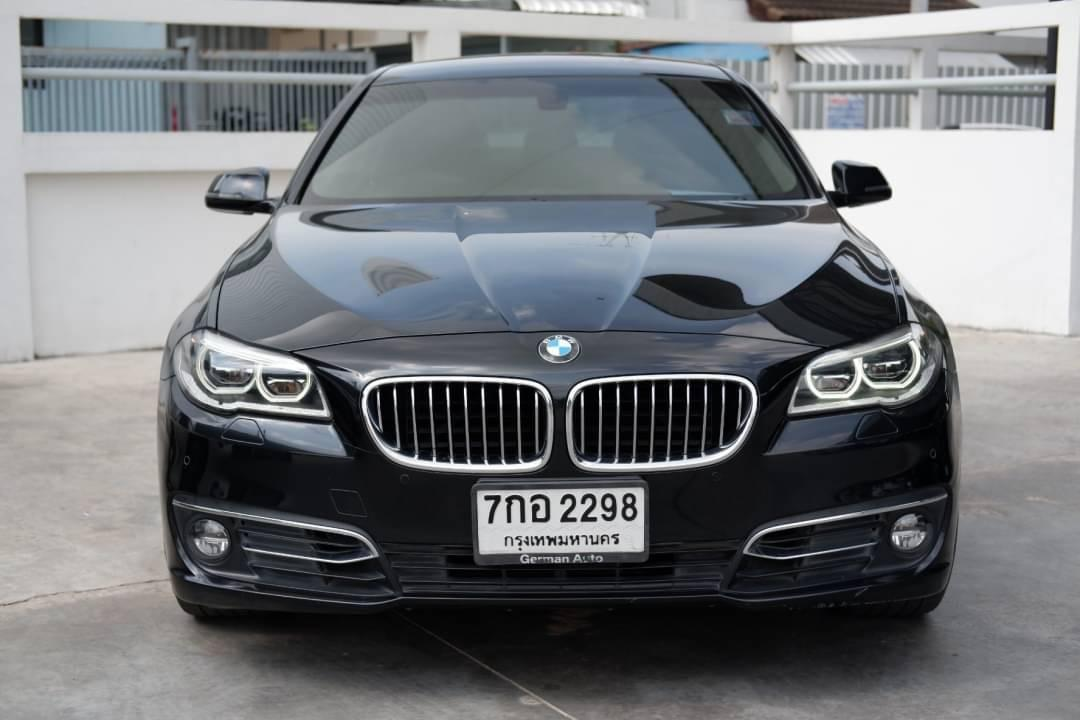license-plate: (471, 478, 650, 566)
